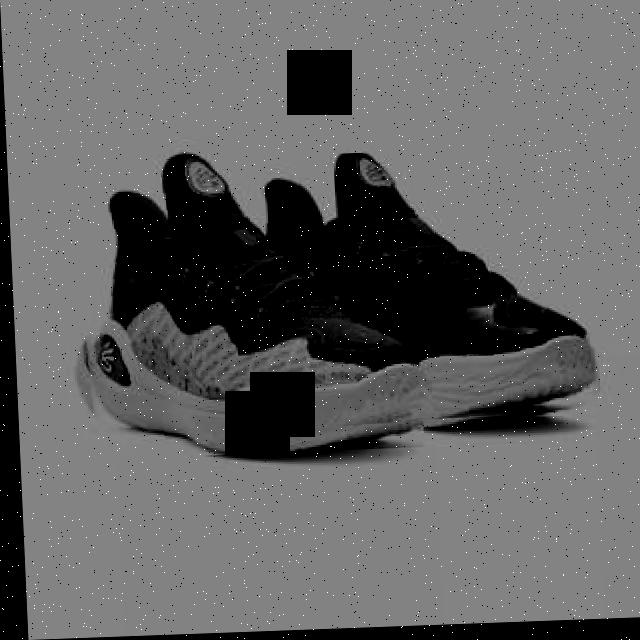shoe: (65, 144, 420, 460), (228, 149, 597, 436)
